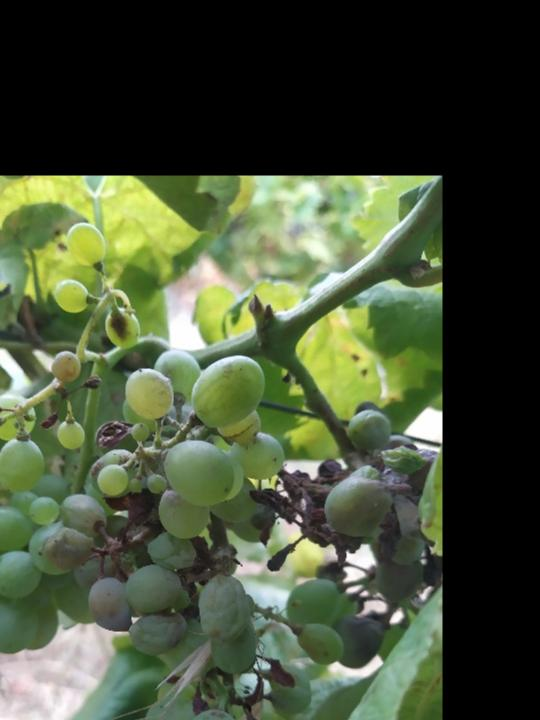grape: (0, 350, 290, 720)
